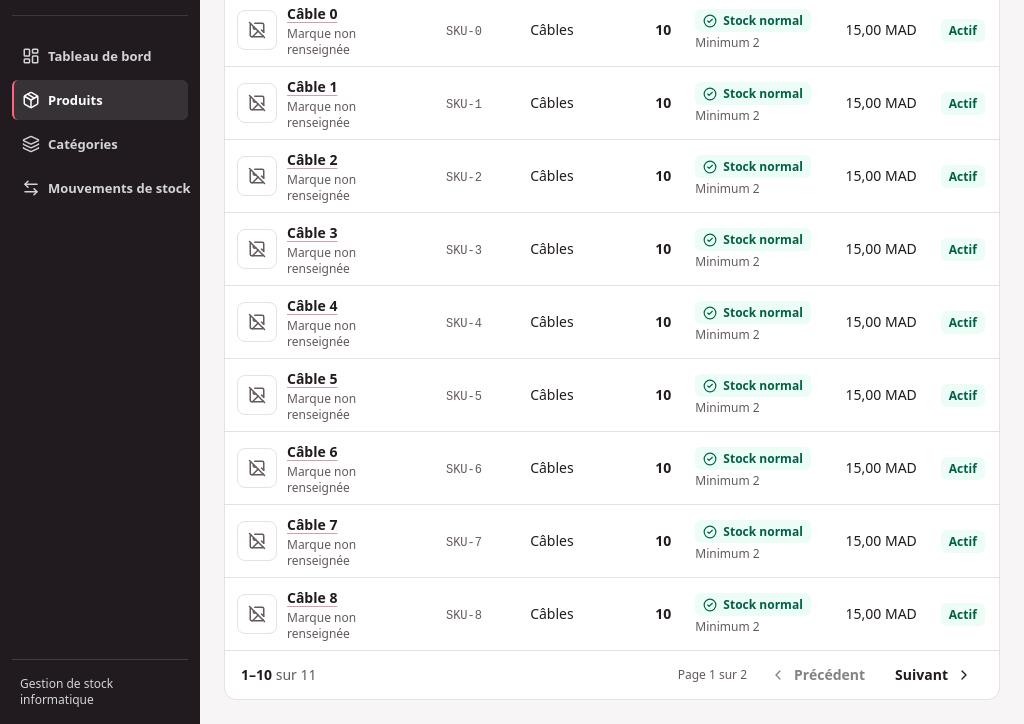
Test case: shows the requested product page and replaces its rows when the user goes forward
(page scrolled)
Click the button "Suivant": x=934, y=675 [884,659,983,691]
(page scrolled)
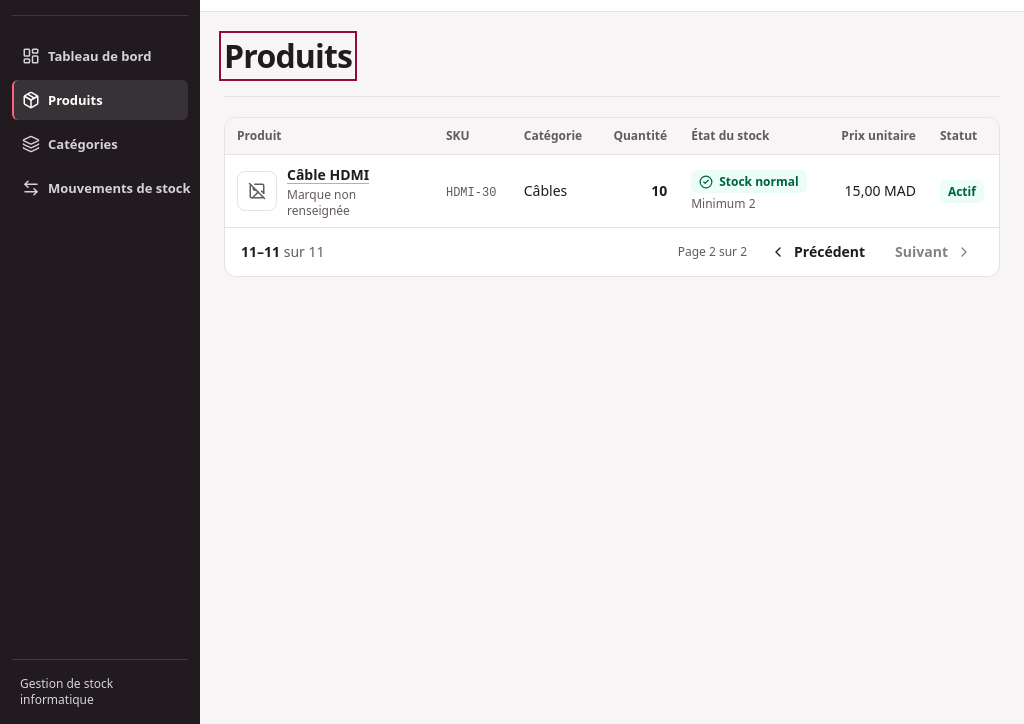
Expected: the text "Page 2 sur 2" is shown, [678,244,747,260]
